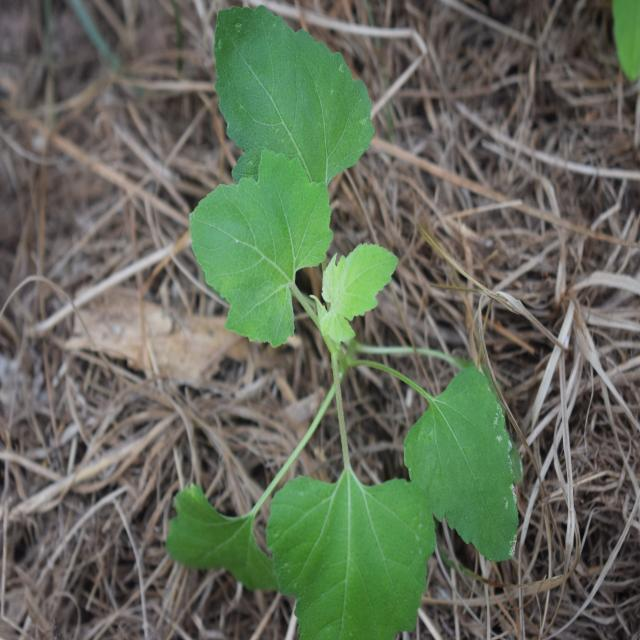cocklebur: (203, 0, 514, 631)
